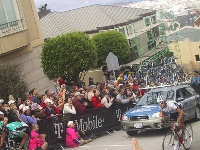person: (157, 96, 189, 150)
